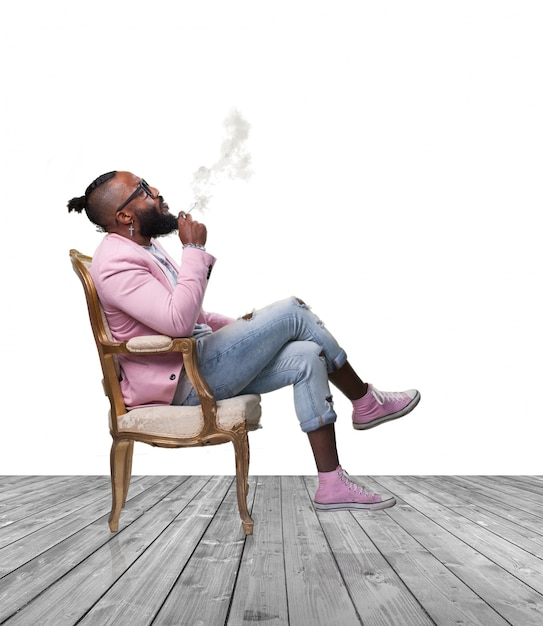cigarette: (184, 201, 198, 216)
